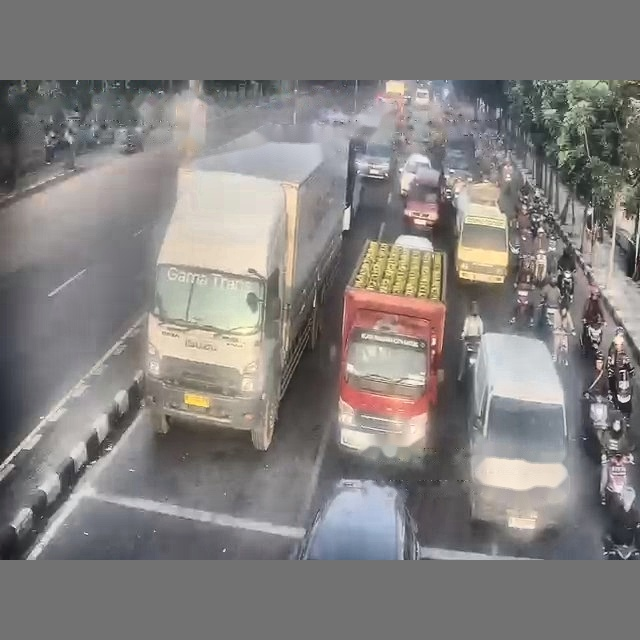Mobil: (294, 480, 420, 559), (399, 153, 431, 196), (394, 234, 433, 251), (319, 109, 349, 124)
Motor: (510, 287, 533, 329), (613, 368, 631, 416), (581, 320, 602, 357), (463, 337, 480, 379), (558, 269, 574, 305), (534, 250, 547, 285)
Truk: (145, 124, 347, 450), (337, 240, 446, 461)
